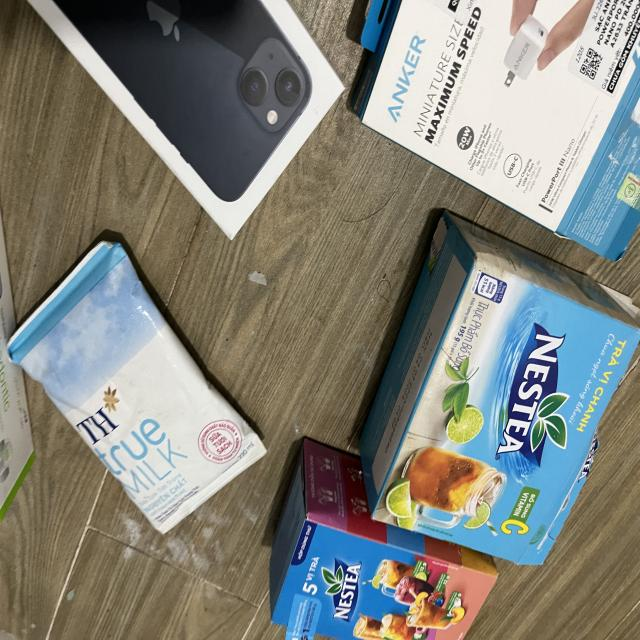cardboard box: (369, 211, 640, 567), (26, 0, 344, 244), (358, 0, 640, 263), (266, 436, 497, 640)
packet: (6, 238, 266, 535)
